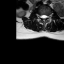CCS_normal: (42, 12, 45, 23)
LFS_normal: (47, 12, 50, 20)
LLS_normal: (45, 12, 47, 20)
RFS_normal: (38, 12, 40, 20)
RLS_normal: (40, 12, 42, 20)
